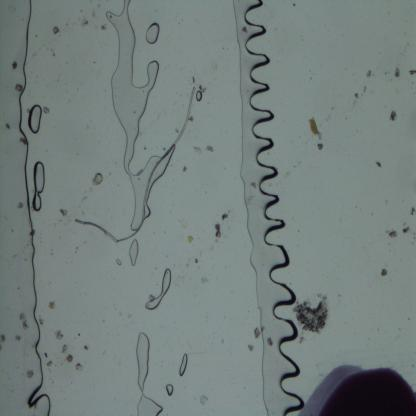Air bubble: (232, 0, 306, 415), (0, 0, 52, 416), (105, 0, 160, 229), (134, 332, 163, 415), (144, 268, 172, 310), (30, 161, 46, 213), (28, 104, 43, 135), (144, 22, 161, 45), (128, 238, 140, 266), (178, 353, 188, 377), (166, 382, 174, 396), (195, 90, 203, 103), (115, 258, 122, 266)
Background material: (294, 292, 330, 338), (307, 116, 324, 142), (41, 345, 54, 370), (91, 172, 104, 186), (18, 312, 28, 330), (213, 222, 223, 240), (53, 327, 64, 341), (59, 342, 69, 356), (57, 206, 69, 217), (203, 144, 216, 154), (14, 82, 24, 94), (17, 135, 27, 147), (388, 228, 398, 240), (393, 66, 401, 80), (253, 326, 261, 340), (46, 300, 56, 311), (219, 211, 229, 222), (374, 158, 383, 170), (80, 16, 89, 28), (401, 224, 410, 236), (80, 343, 90, 353), (74, 362, 84, 372), (15, 200, 25, 210), (193, 145, 202, 156), (65, 352, 74, 363), (186, 234, 195, 245), (0, 332, 7, 346), (51, 23, 59, 35), (388, 110, 396, 122), (25, 370, 34, 380), (266, 336, 274, 346), (353, 88, 359, 101), (317, 141, 324, 152), (380, 268, 388, 277), (182, 164, 189, 174), (11, 60, 18, 70), (100, 23, 108, 31), (408, 68, 416, 76), (365, 68, 372, 77), (410, 208, 416, 216), (5, 123, 10, 130)
Microfibre: (74, 86, 196, 244)
Pen: (300, 364, 416, 415)
